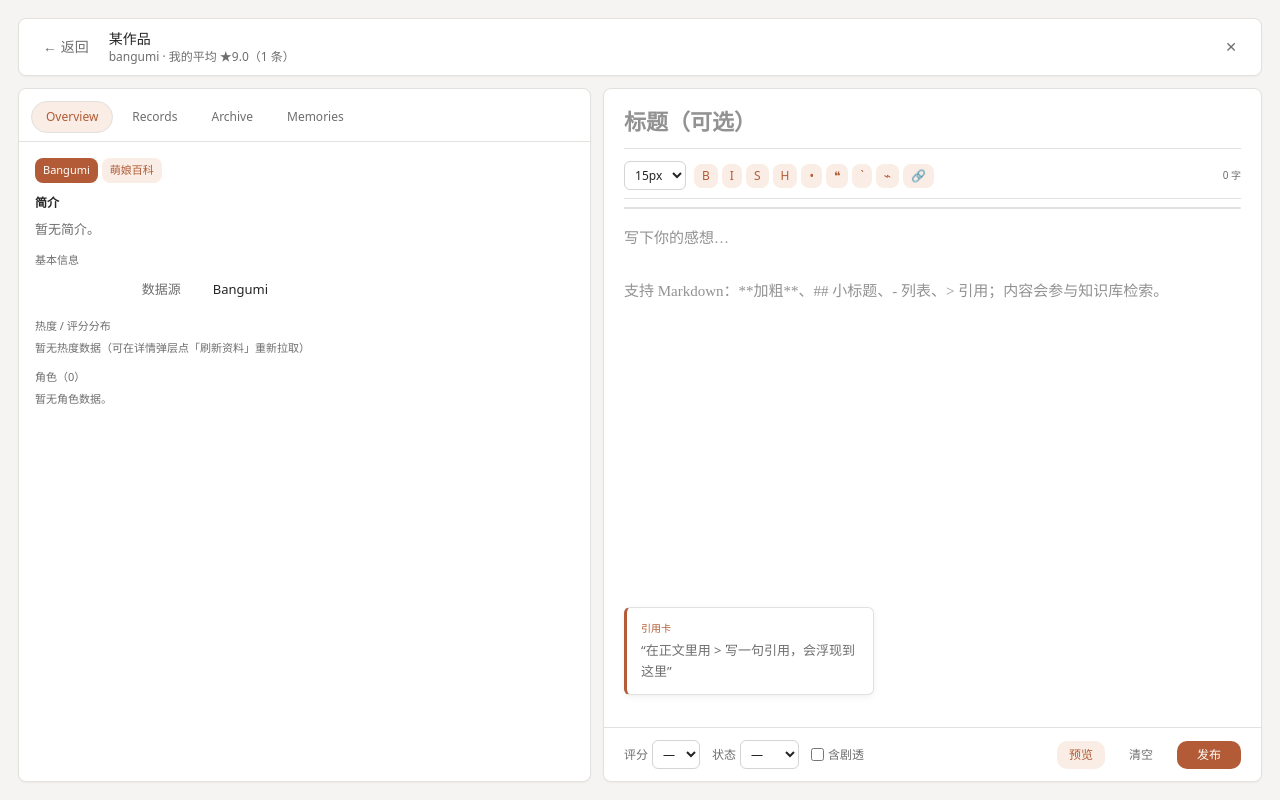
Test: ReviewStudio 沉浸式书写 › Overview：多来源切换 + 完整简介 + 紧凑角色 + 热度分布（ADR 0026）
expect the button "Overview" is shown: met, box [31,101,113,133]
Click the button "萌娘百科". click: point(132, 170)
box: [102,158,162,182]
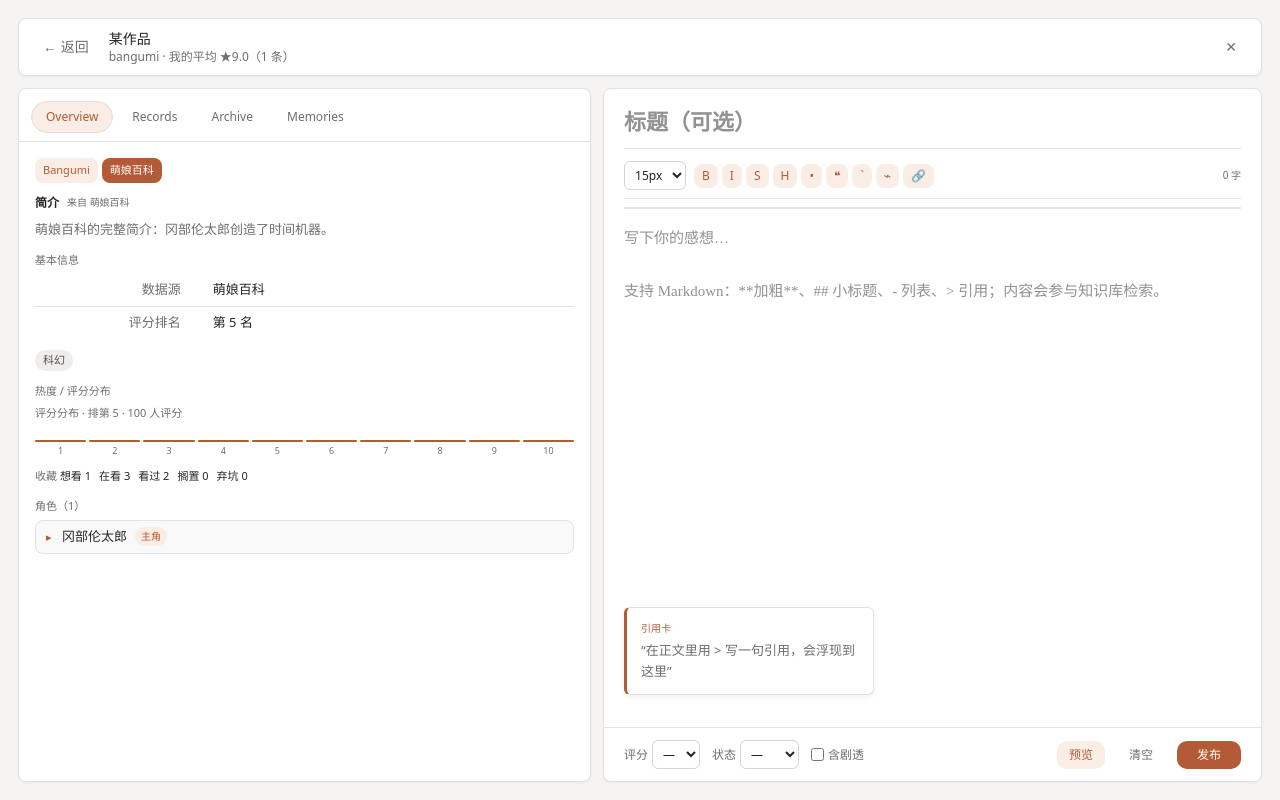
expect the text "萌娘百科的完整简介：冈部伦太郎创造了时间机器。" is shown: met, box [35,220,334,238]
expect the text "冈部伦太郎" is shown: met
 角色小传可展开
Click the text "冈部伦太郎". click: point(94, 537)
box: [62,527,127,547]
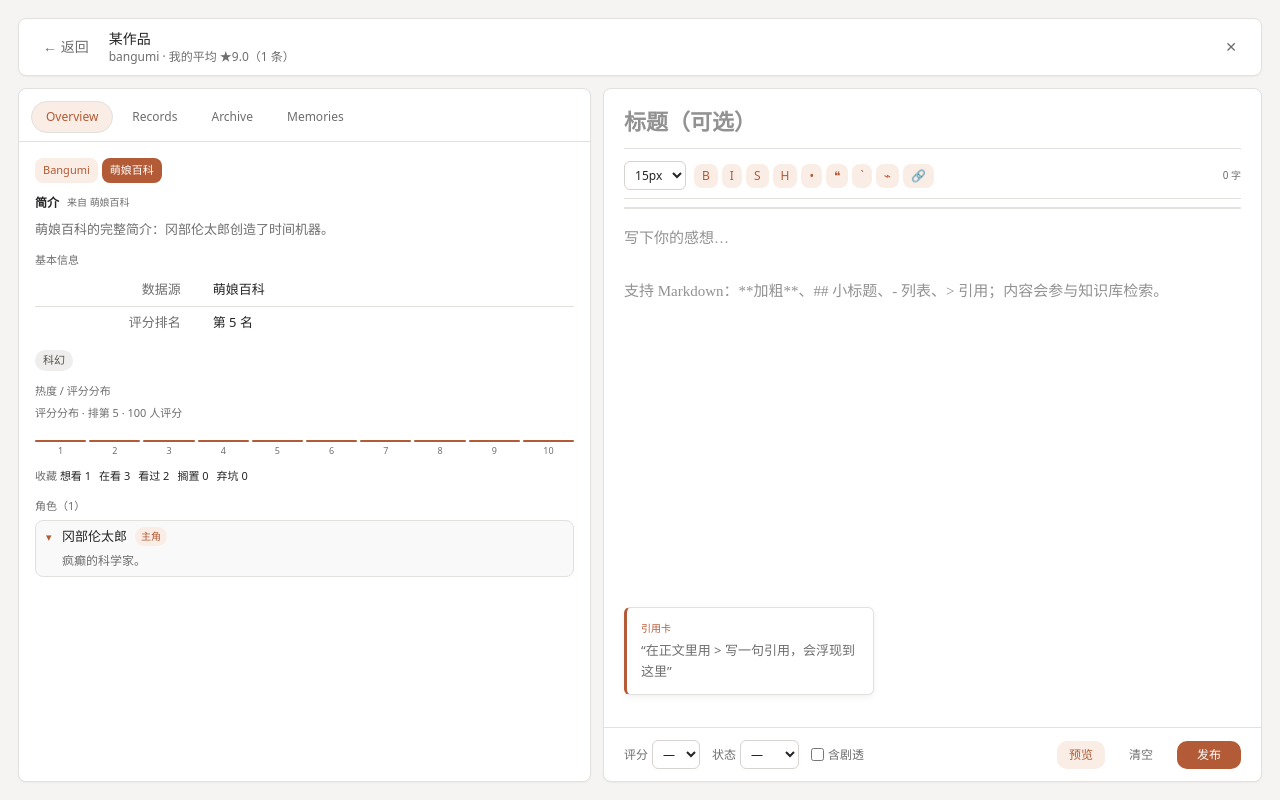
expect the text "看过 2" is shown: met, box [138,468,169,483]
expect the text "疯癫的科学家。" is shown: met, box [62,552,146,569]
Click the button "Bangumi". click: point(66, 170)
box: [35,158,98,182]
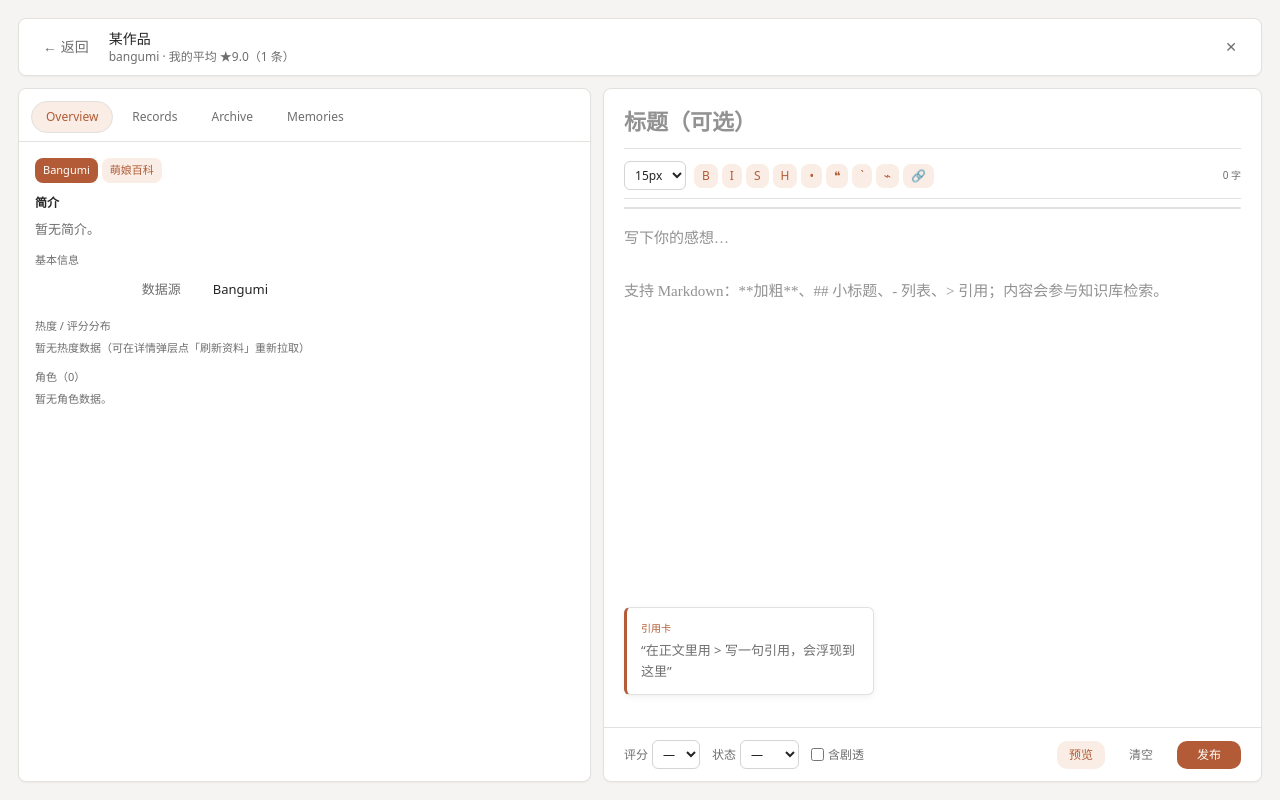
expect the text "暂无简介。" is shown: met, box [35,220,100,238]
